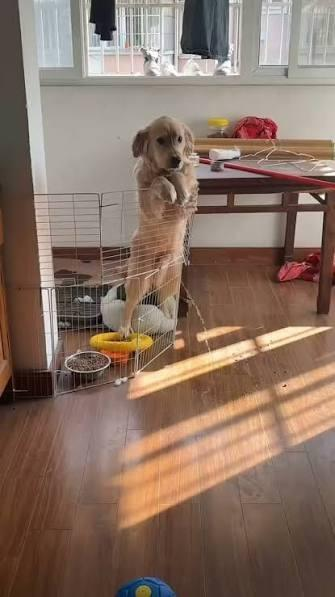adult_dog: (121, 115, 200, 332)
